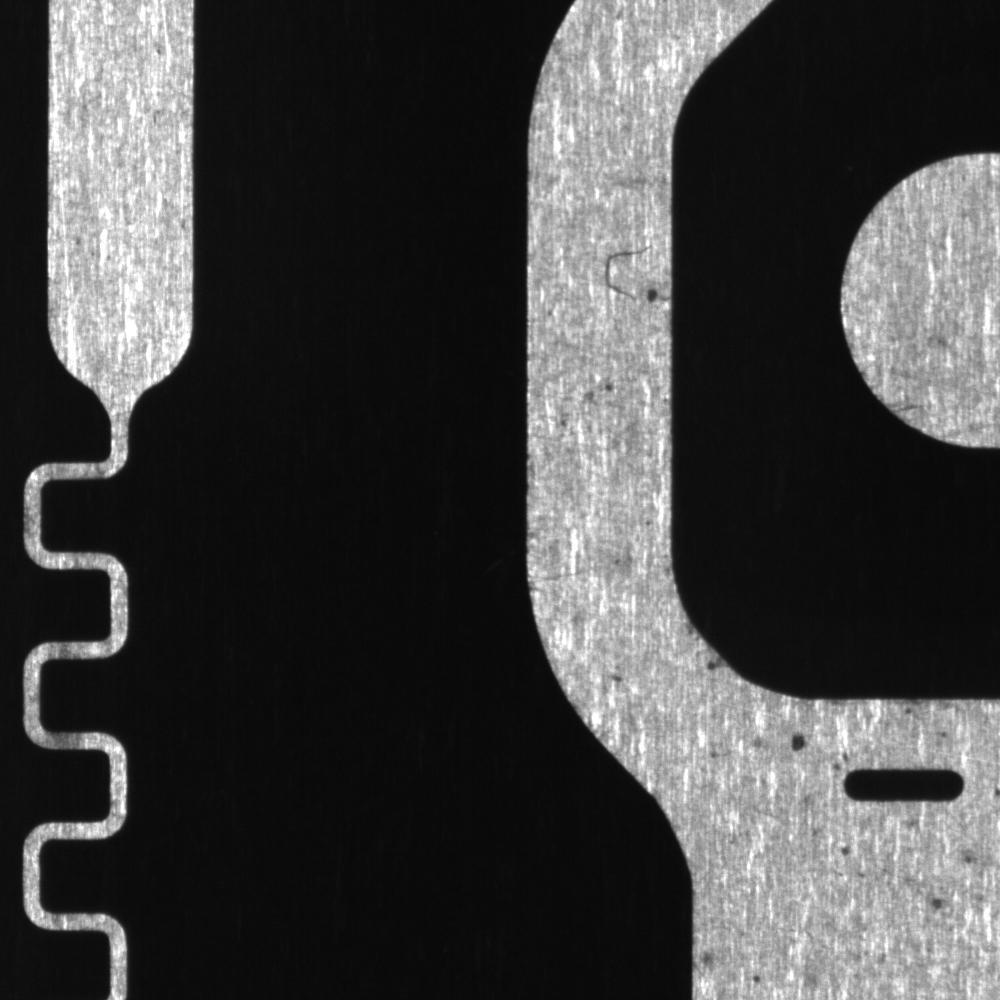Etching: (907, 832, 994, 918), (766, 714, 854, 782), (551, 377, 611, 434), (891, 701, 972, 738), (678, 643, 733, 696), (836, 839, 894, 887), (597, 651, 642, 700), (732, 956, 771, 998), (690, 939, 725, 985)
Scar: (589, 220, 651, 330), (530, 548, 611, 595)
